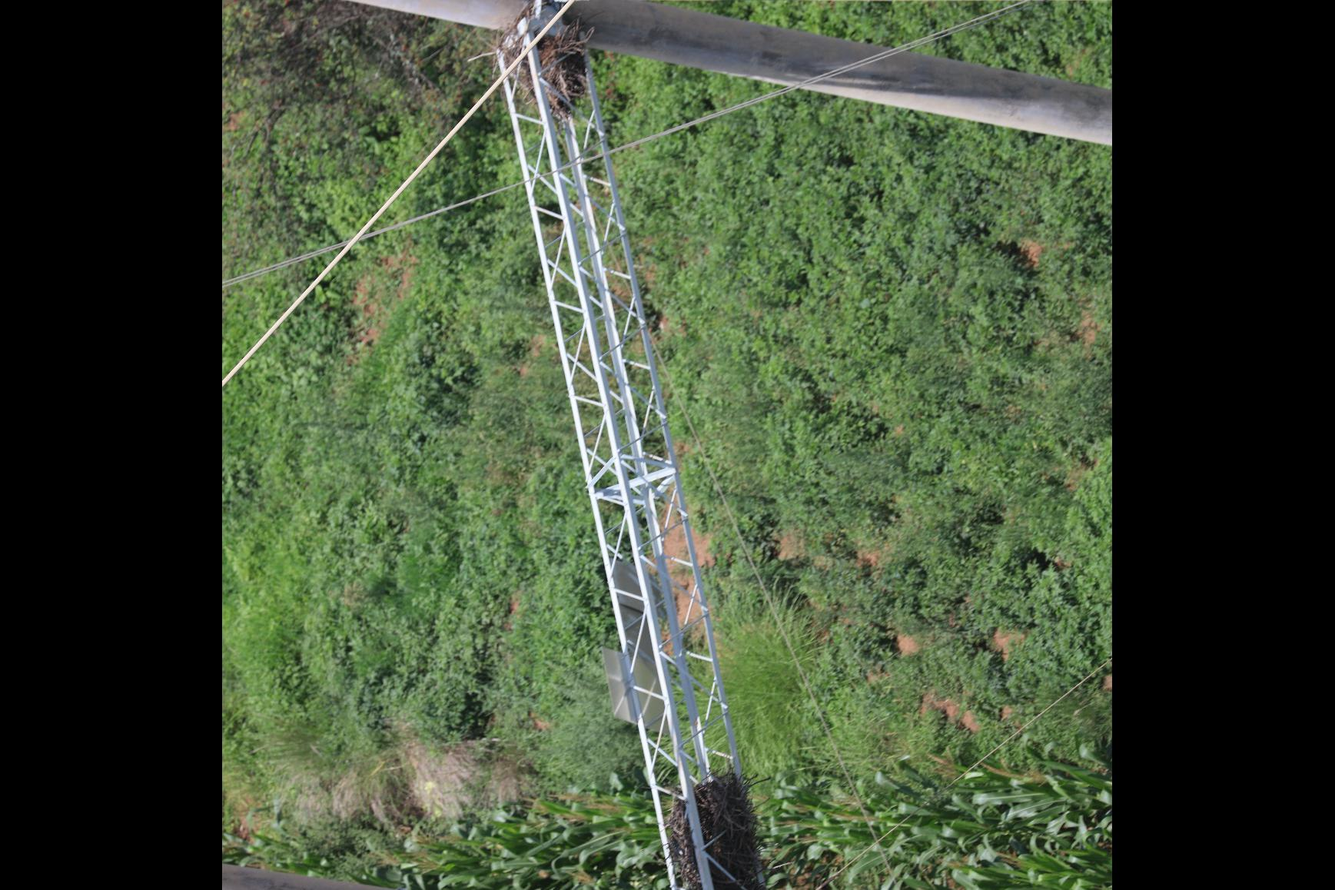nest: (666, 766, 769, 890), (490, 15, 593, 119)
